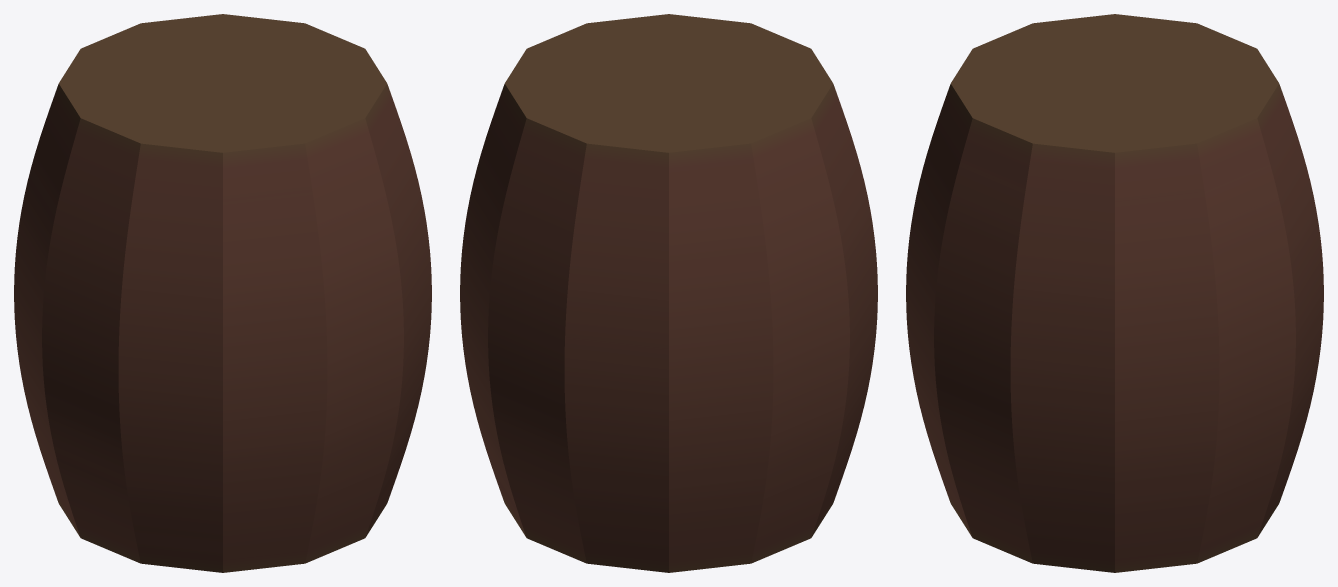
3 renders of one model, left to right at view 1: azimuth 30°, elevation 25°; view 2: azimuth 150°, elevation 25°; view 3: azimuth 270°, elevation 25°, orthographic.
Visible parts, largest first — view 1: faceted_body; view 2: faceted_body; view 3: faceted_body.
Boxes of the visible parts, <box> form: faceted_body: <box>14,14,431,572</box>; faceted_body: <box>460,14,877,572</box>; faceted_body: <box>906,14,1323,572</box>.
Bounding box in the file's own units: 0.8114 × 0.9 × 0.8114.
